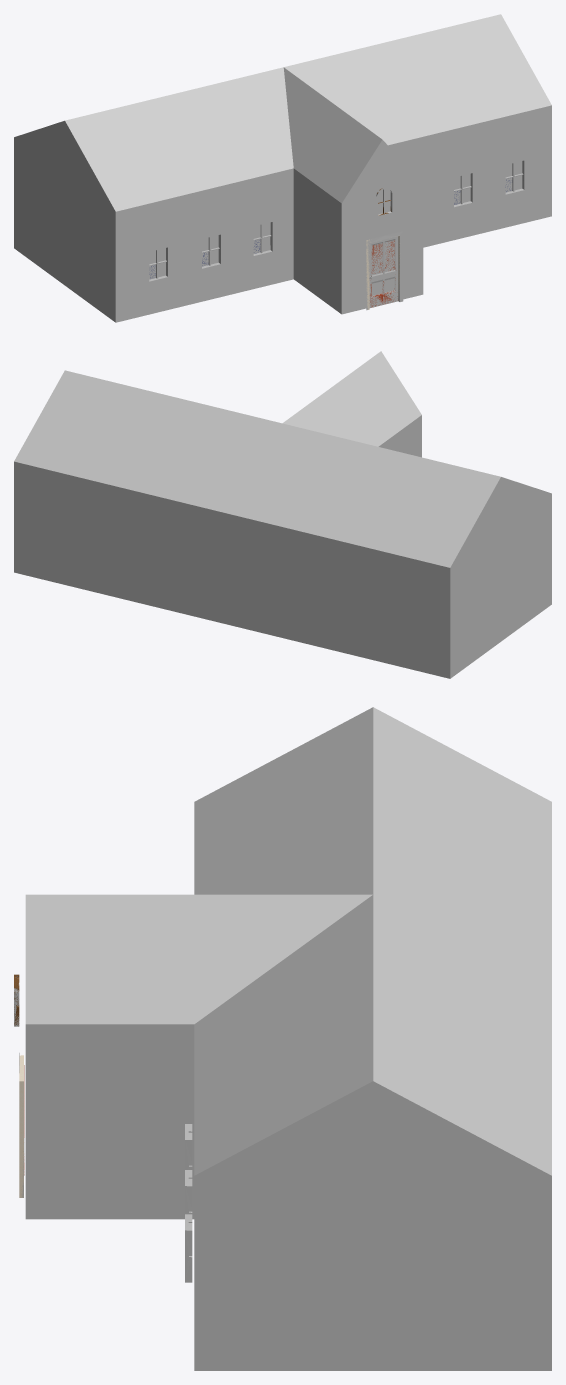
The model's file is house_1.obj.
3 renders of one model, top to bottom at view 1: azimuth 30°, elevation 25°; view 2: azimuth 150°, elevation 25°; view 3: azimuth 270°, elevation 25°, orthographic. The views are drawn at different scales.
Parts seen in each view (by area): view 1: Cube.015, Cube, Cube.010, Cube.013, Cube.012, Cube.017, Cube.011, Cube.014, Cube.001, Cube.009; view 2: Cube.015, Cube; view 3: Cube.015, Cube, Cube.001.
Boxes of the visible parts, x1=… form: Cube.015: x1=14, y1=14, x2=551, y2=322; Cube: x1=14, y1=109, x2=382, y2=318; Cube.010: x1=366, y1=231, x2=403, y2=310; Cube.013: x1=199, y1=232, x2=223, y2=271; Cube.012: x1=251, y1=219, x2=274, y2=258; Cube.017: x1=451, y1=170, x2=474, y2=209; Cube.011: x1=503, y1=158, x2=526, y2=197; Cube.014: x1=147, y1=245, x2=170, y2=284; Cube.001: x1=366, y1=236, x2=399, y2=309; Cube.009: x1=376, y1=187, x2=393, y2=217; Cube.015: x1=14, y1=357, x2=551, y2=678; Cube: x1=14, y1=351, x2=551, y2=678; Cube.015: x1=25, y1=707, x2=551, y2=1370; Cube: x1=25, y1=895, x2=551, y2=1370; Cube.001: x1=19, y1=1055, x2=24, y2=1197.
Size of the model in its own units: 18.48 by 6.68 by 11.24.
